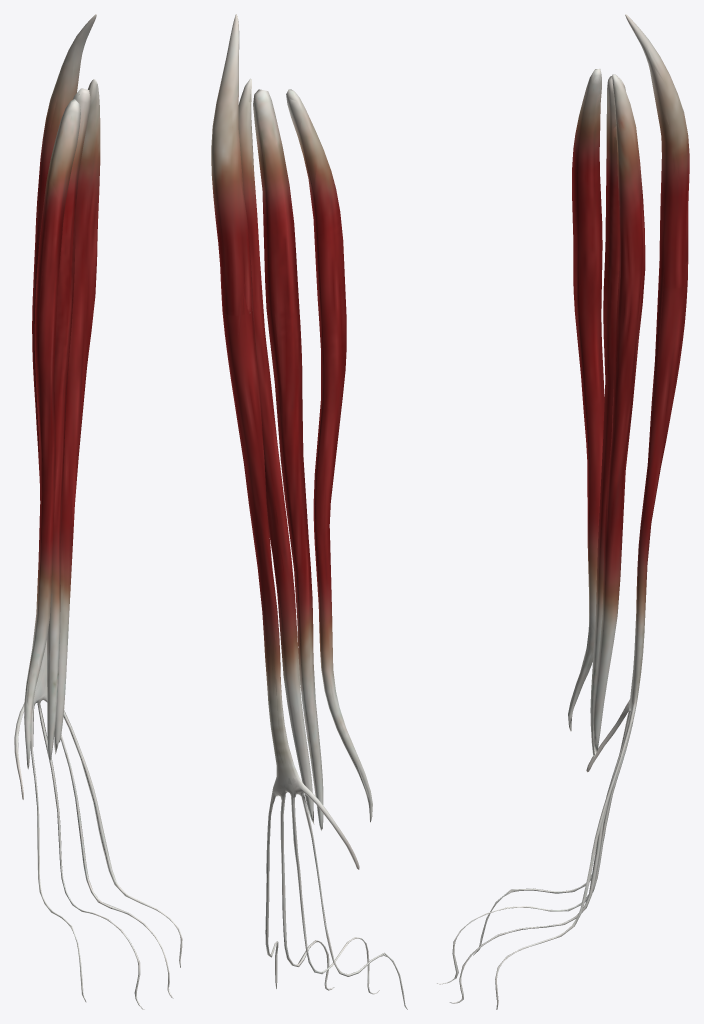
Rendered from L Flexor digitorum profundus.fbx.
3 renders of one model, left to right at view 1: azimuth 30°, elevation 25°; view 2: azimuth 150°, elevation 25°; view 3: azimuth 270°, elevation 25°, orthographic. The views are drawn at different scales.
Visible parts, largest first — view 1: L Flexor digitorum profundus low, L Flexor digitorum profundus, L Flexor digitorum profundus high; view 2: L Flexor digitorum profundus, L Flexor digitorum profundus low, L Flexor digitorum profundus high; view 3: L Flexor digitorum profundus, L Flexor digitorum profundus low, L Flexor digitorum profundus high.
Part boxes in pixels (box(x1,y1,x2,y2)): L Flexor digitorum profundus low: box(14, 17, 181, 992); L Flexor digitorum profundus: box(14, 14, 182, 1009); L Flexor digitorum profundus high: box(16, 16, 181, 1009); L Flexor digitorum profundus: box(211, 14, 407, 1009); L Flexor digitorum profundus low: box(211, 37, 404, 1005); L Flexor digitorum profundus high: box(212, 22, 405, 1006); L Flexor digitorum profundus: box(437, 14, 689, 1009); L Flexor digitorum profundus low: box(455, 18, 688, 1002); L Flexor digitorum profundus high: box(438, 17, 688, 1004).
Bounding box in the file's own units: 2 × 14.6 × 3.38.
